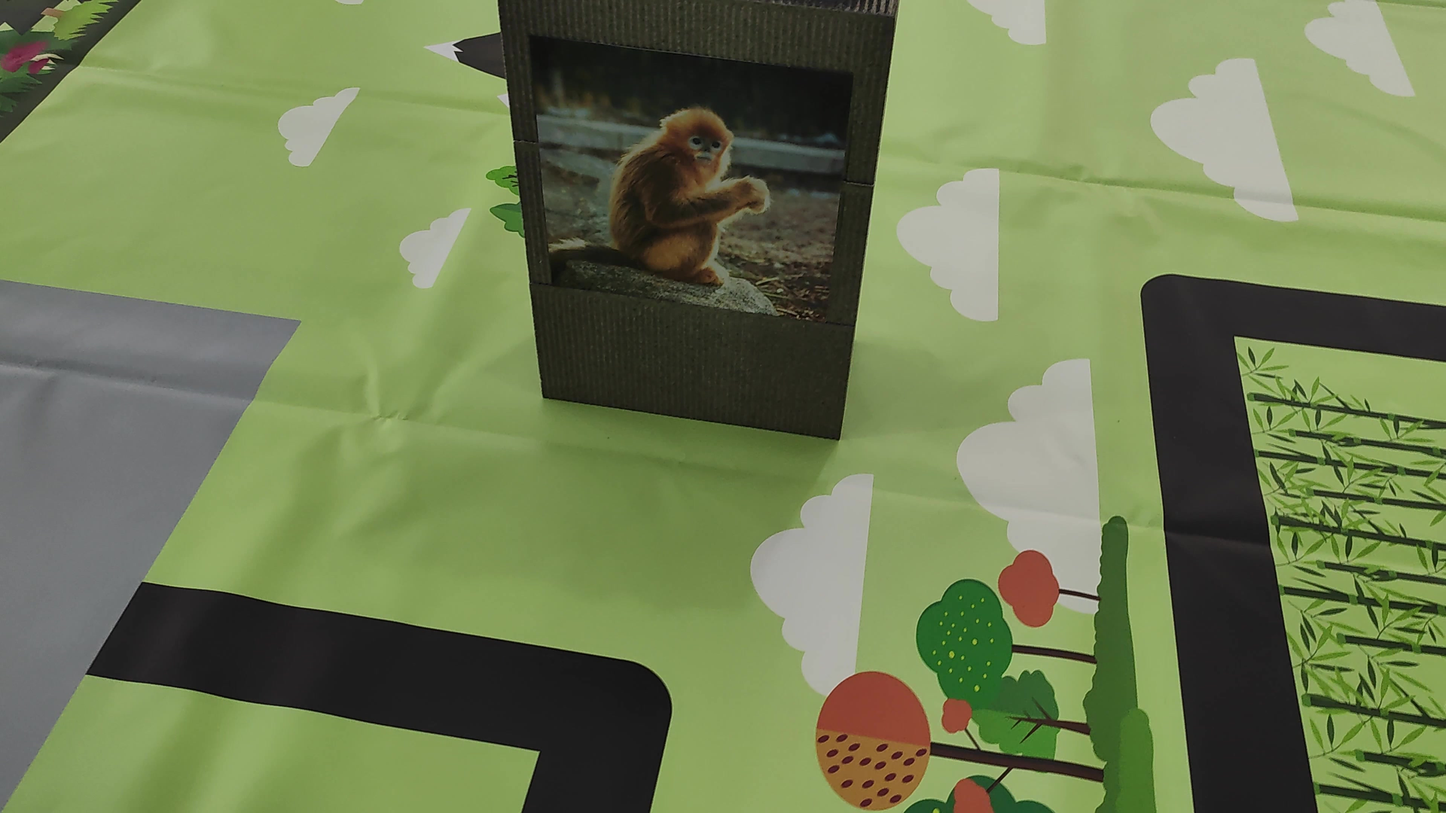monkey: (552, 54, 808, 311)
